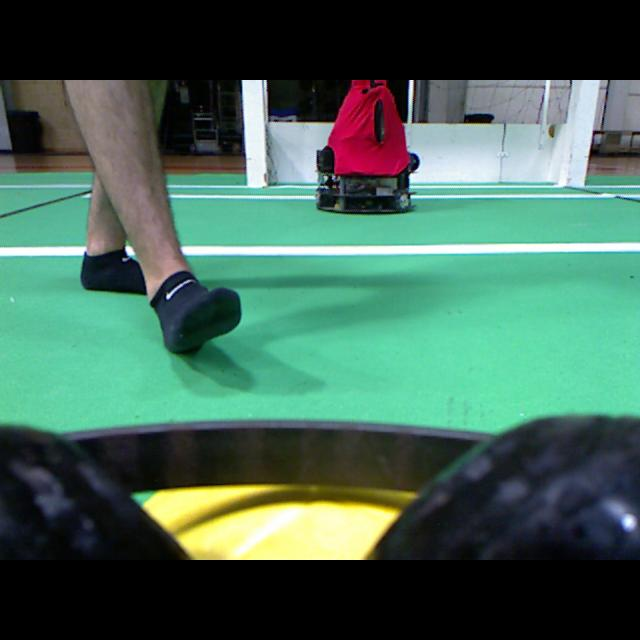ball: (143, 485, 414, 558)
goal: (567, 80, 599, 186), (242, 80, 267, 186)
